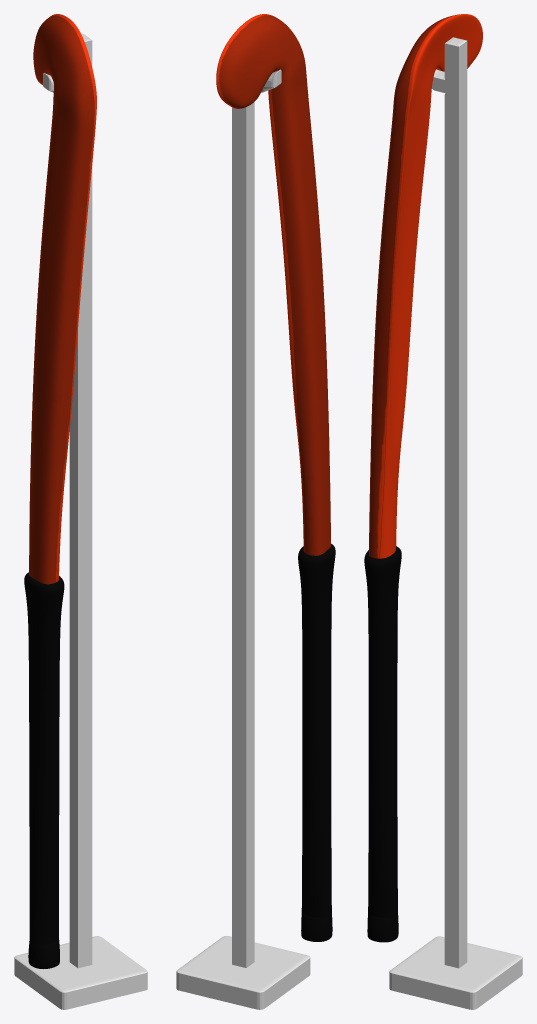
Rendered from Field Hockey Stick.fbx.
The picture shows the model from 3 angles, left to right: view 1: azimuth 30°, elevation 25°; view 2: azimuth 150°, elevation 25°; view 3: azimuth 330°, elevation 25°; orthographic projection.
Visible parts, largest first — view 1: Stick, Stand, Grip; view 2: Stand, Stick, Grip; view 3: Stand, Stick, Grip.
Boxes of the visible parts, x1=… form: Stick: x1=29, y1=14, x2=96, y2=584; Stand: x1=14, y1=34, x2=147, y2=1009; Grip: x1=24, y1=572, x2=64, y2=968; Stand: x1=176, y1=69, x2=310, y2=1009; Stick: x1=216, y1=14, x2=330, y2=555; Grip: x1=298, y1=543, x2=335, y2=941; Stand: x1=389, y1=37, x2=522, y2=1009; Stick: x1=369, y1=14, x2=482, y2=558; Grip: x1=364, y1=546, x2=401, y2=942.
Bounding box in the file's own units: 52.08 × 423 × 52.09.
Materials: 2 (1 with a texture image).
